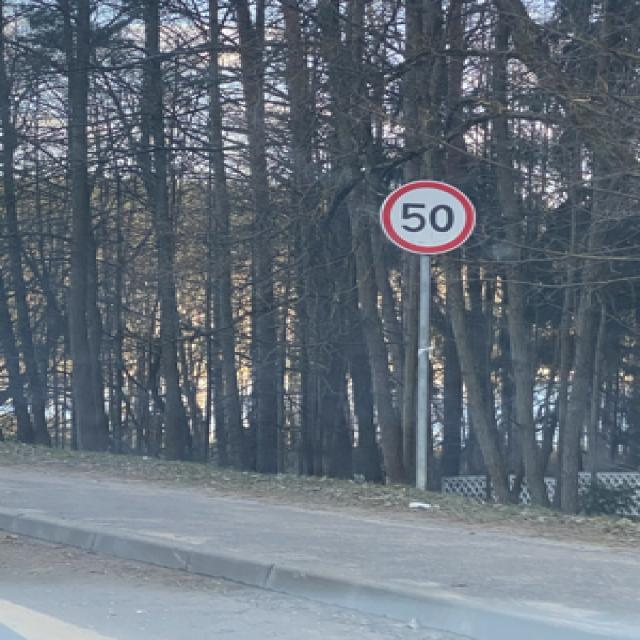speedlimit: (376, 180, 470, 254)
